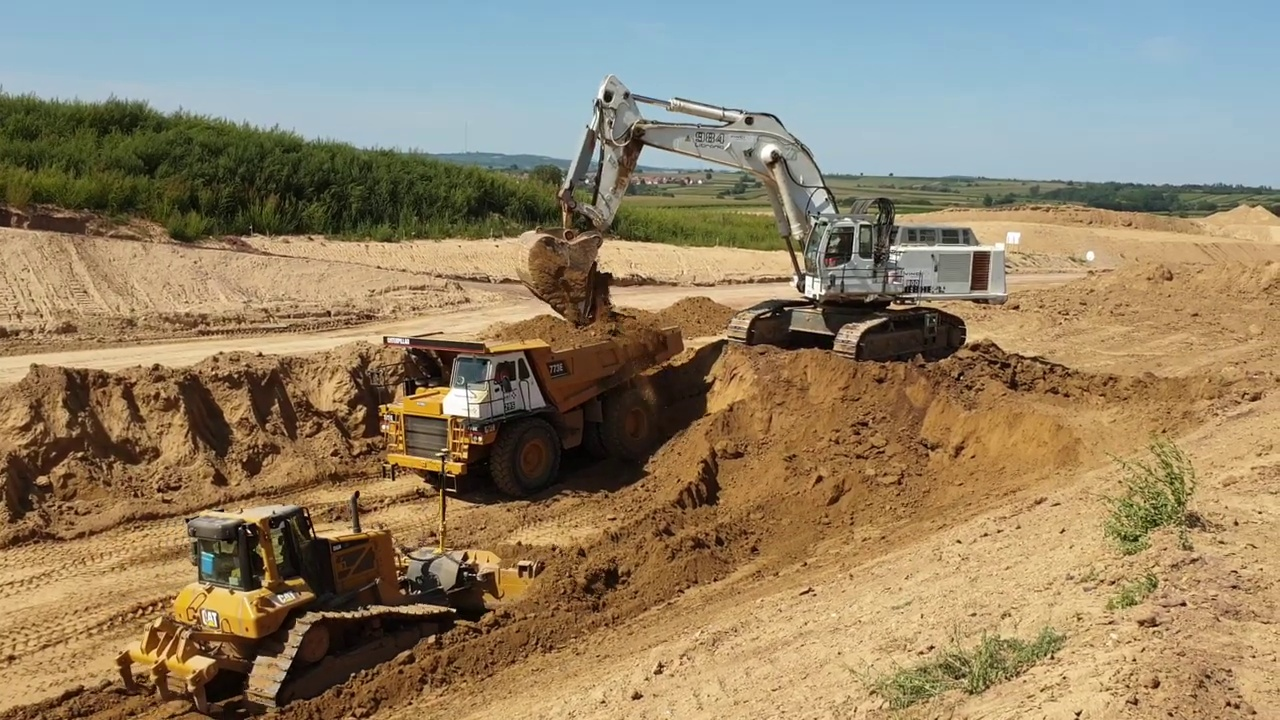bulldozer: (115, 447, 540, 714)
excavator: (509, 71, 1015, 365)
truck: (376, 319, 690, 505)
